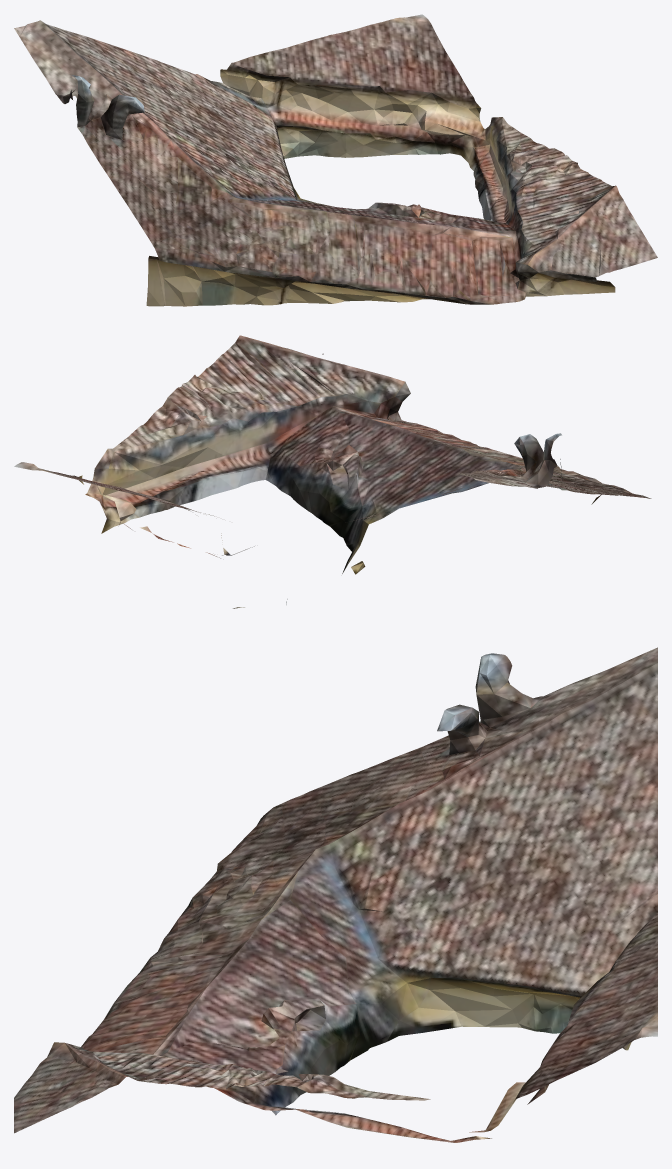
3 renders of one model, top to bottom at view 1: azimuth 30°, elevation 25°; view 2: azimuth 150°, elevation 25°; view 3: azimuth 270°, elevation 25°, orthographic. The views are drawn at different scales.
Bounding box in the file's own units: 13.4 × 5.72 × 13.4.
Materials: 3 (3 with a texture image).
